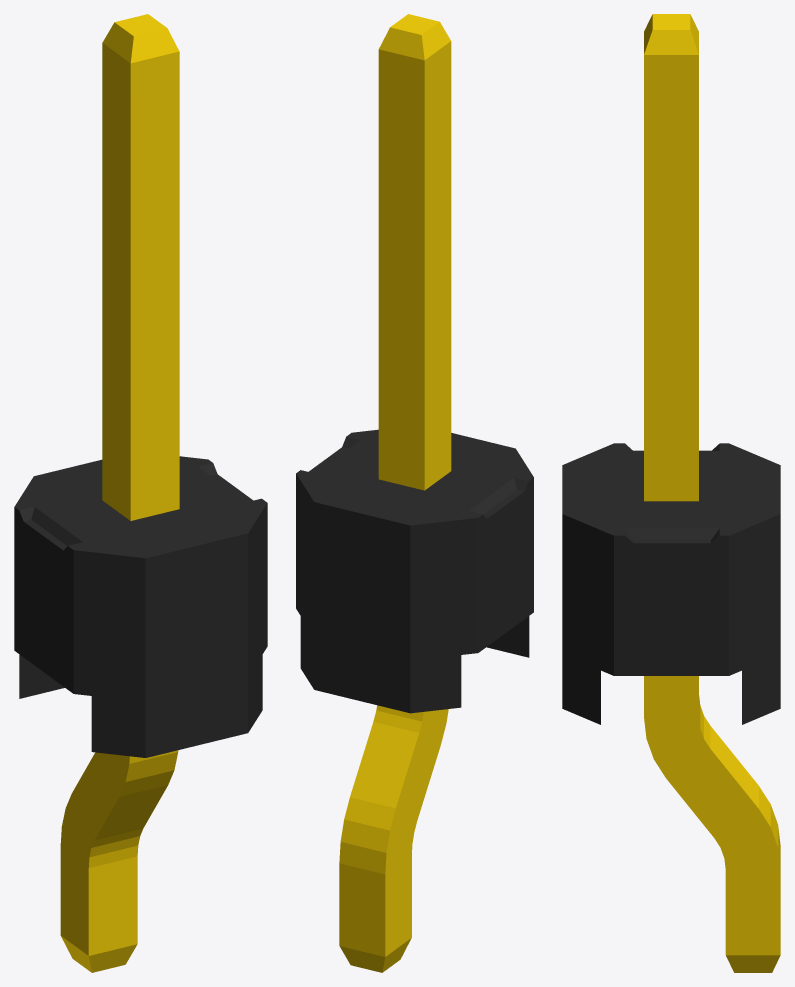
The model's file is DS1025 (PLS-01T CONNFLY).obj.
3 renders of one model, left to right at view 1: azimuth 30°, elevation 25°; view 2: azimuth 150°, elevation 25°; view 3: azimuth 270°, elevation 25°, orthographic. The views are drawn at different scales.
Visible parts, largest first — view 1: DS1025_(PLS-01T_CONNFLY); view 2: DS1025_(PLS-01T_CONNFLY); view 3: DS1025_(PLS-01T_CONNFLY).
Boxes of the visible parts, bbox=[...] form: DS1025_(PLS-01T_CONNFLY): bbox=[14, 14, 267, 972]; DS1025_(PLS-01T_CONNFLY): bbox=[296, 14, 533, 972]; DS1025_(PLS-01T_CONNFLY): bbox=[562, 14, 780, 972].
Bounding box in the file's own units: 0.00329 × 0.0157 × 0.00329.
